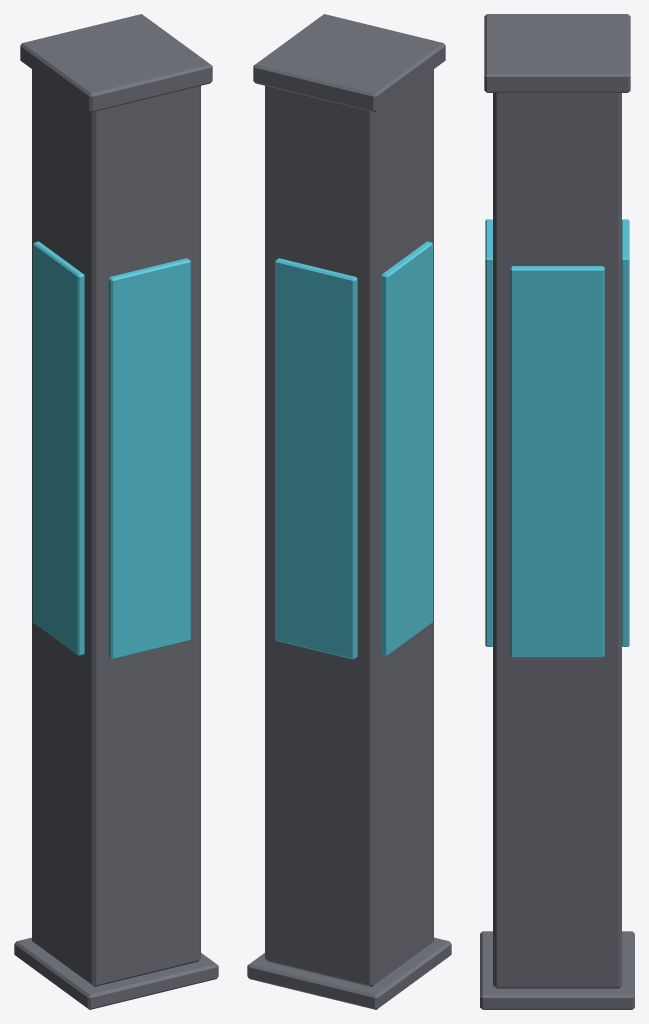
The model's file is laser-tag-arena-and-activity-centre-arena-corner-modul-80a412a0__34475.glb.
The picture shows the model from 3 angles, left to right: view 1: azimuth 30°, elevation 25°; view 2: azimuth 150°, elevation 25°; view 3: azimuth 270°, elevation 25°; orthographic projection. The views are drawn at different scales.
Visible parts, largest first — view 1: arena-corner-module; view 2: arena-corner-module; view 3: arena-corner-module.
Part boxes in pixels (x1,y1,x2,y2): arena-corner-module: (14, 14, 218, 1009); arena-corner-module: (247, 14, 451, 1009); arena-corner-module: (480, 14, 634, 1009).
Size of the model in its own units: 0.3601 by 2.4 by 0.3601.
